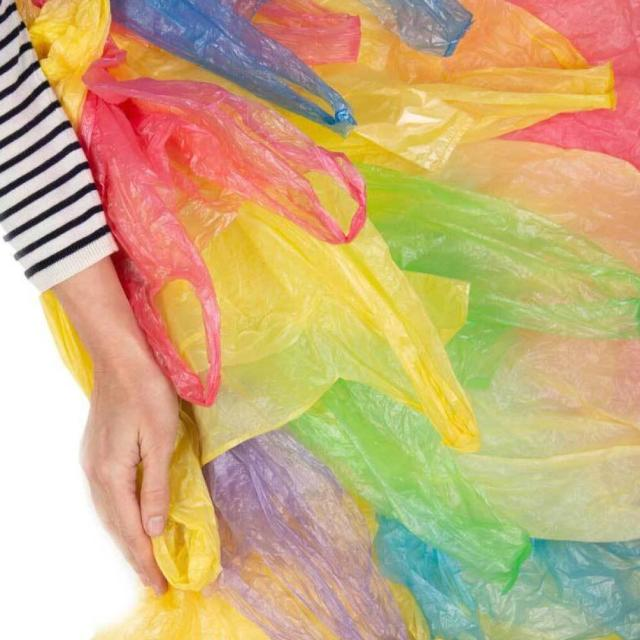Single-layer Plastic: (79, 40, 365, 405), (194, 204, 479, 462), (365, 168, 640, 389), (318, 0, 615, 170), (288, 380, 529, 584), (204, 429, 408, 639), (460, 330, 640, 541), (112, 408, 266, 639), (110, 1, 355, 135), (375, 517, 640, 639), (428, 139, 640, 273), (504, 0, 640, 168), (29, 0, 111, 128)
